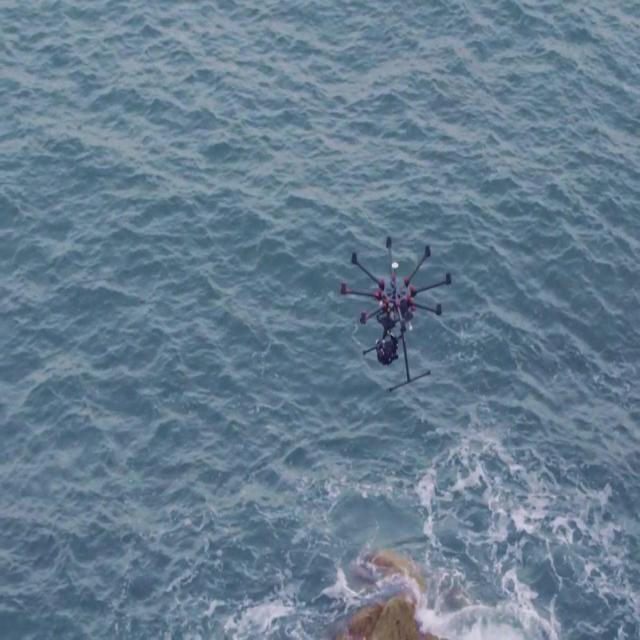drone: (338, 230, 453, 394)
